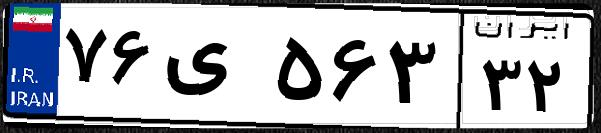2: (525, 38, 570, 115)
3: (385, 28, 445, 110), (475, 38, 525, 113)
5: (270, 28, 330, 110)
6: (330, 28, 385, 110), (110, 28, 158, 98)
7: (57, 26, 110, 100)
ی: (158, 20, 270, 120)
